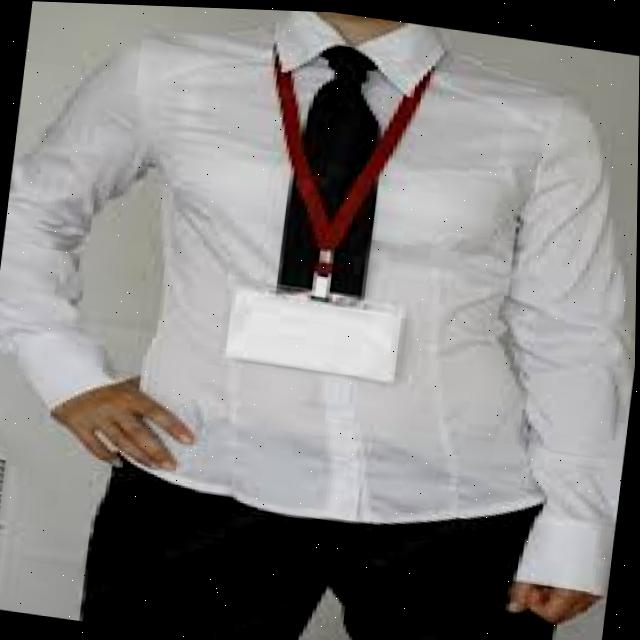id_card: (222, 33, 450, 390)
